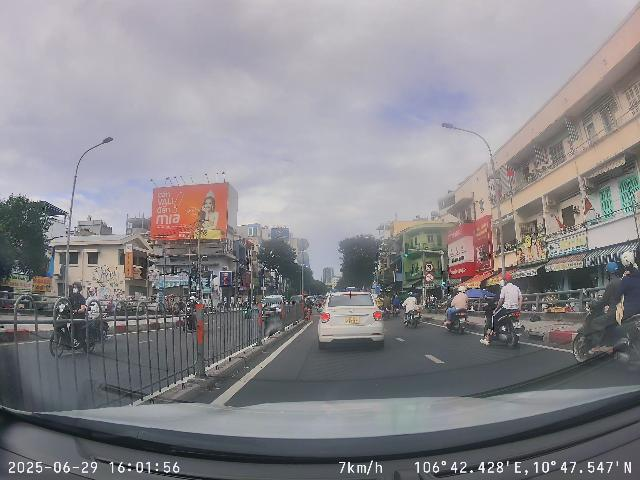103b-cam-oto-re-phai: (425, 273, 434, 283)
103c-cam-oto-re-trai: (424, 263, 434, 273)
